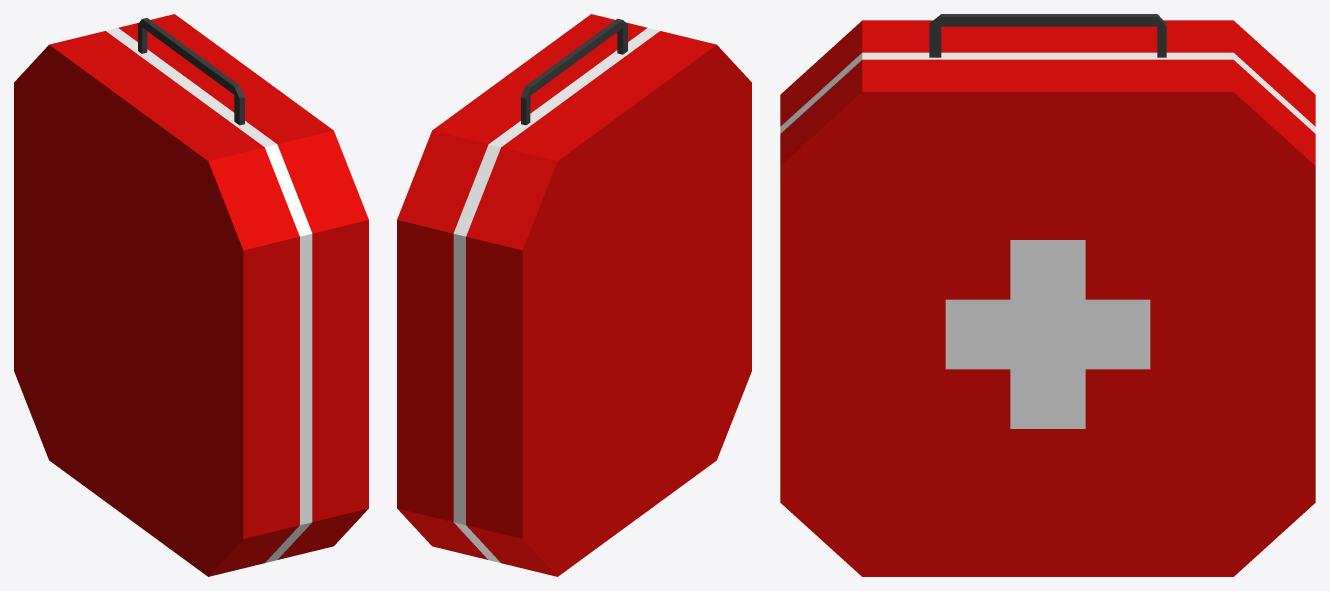
Rendered from Healthkit.fbx.
3 views of the same model, side by side, from view 1: azimuth 30°, elevation 25°; view 2: azimuth 150°, elevation 25°; view 3: azimuth 270°, elevation 25° (orthographic). The views are drawn at different scales.
Parts seen in each view (by area): view 1: Cube; view 2: Cube; view 3: Cube.
Boxes of the visible parts, x1,y1,x2,y2 form: Cube: [14, 14, 368, 576]; Cube: [397, 14, 751, 576]; Cube: [780, 14, 1315, 576].
Size of the model in its own units: 63.21 by 217 by 200.
